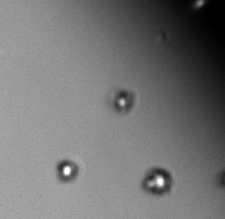Living Cell: (142, 166, 174, 197), (57, 158, 77, 181), (112, 89, 133, 110)
